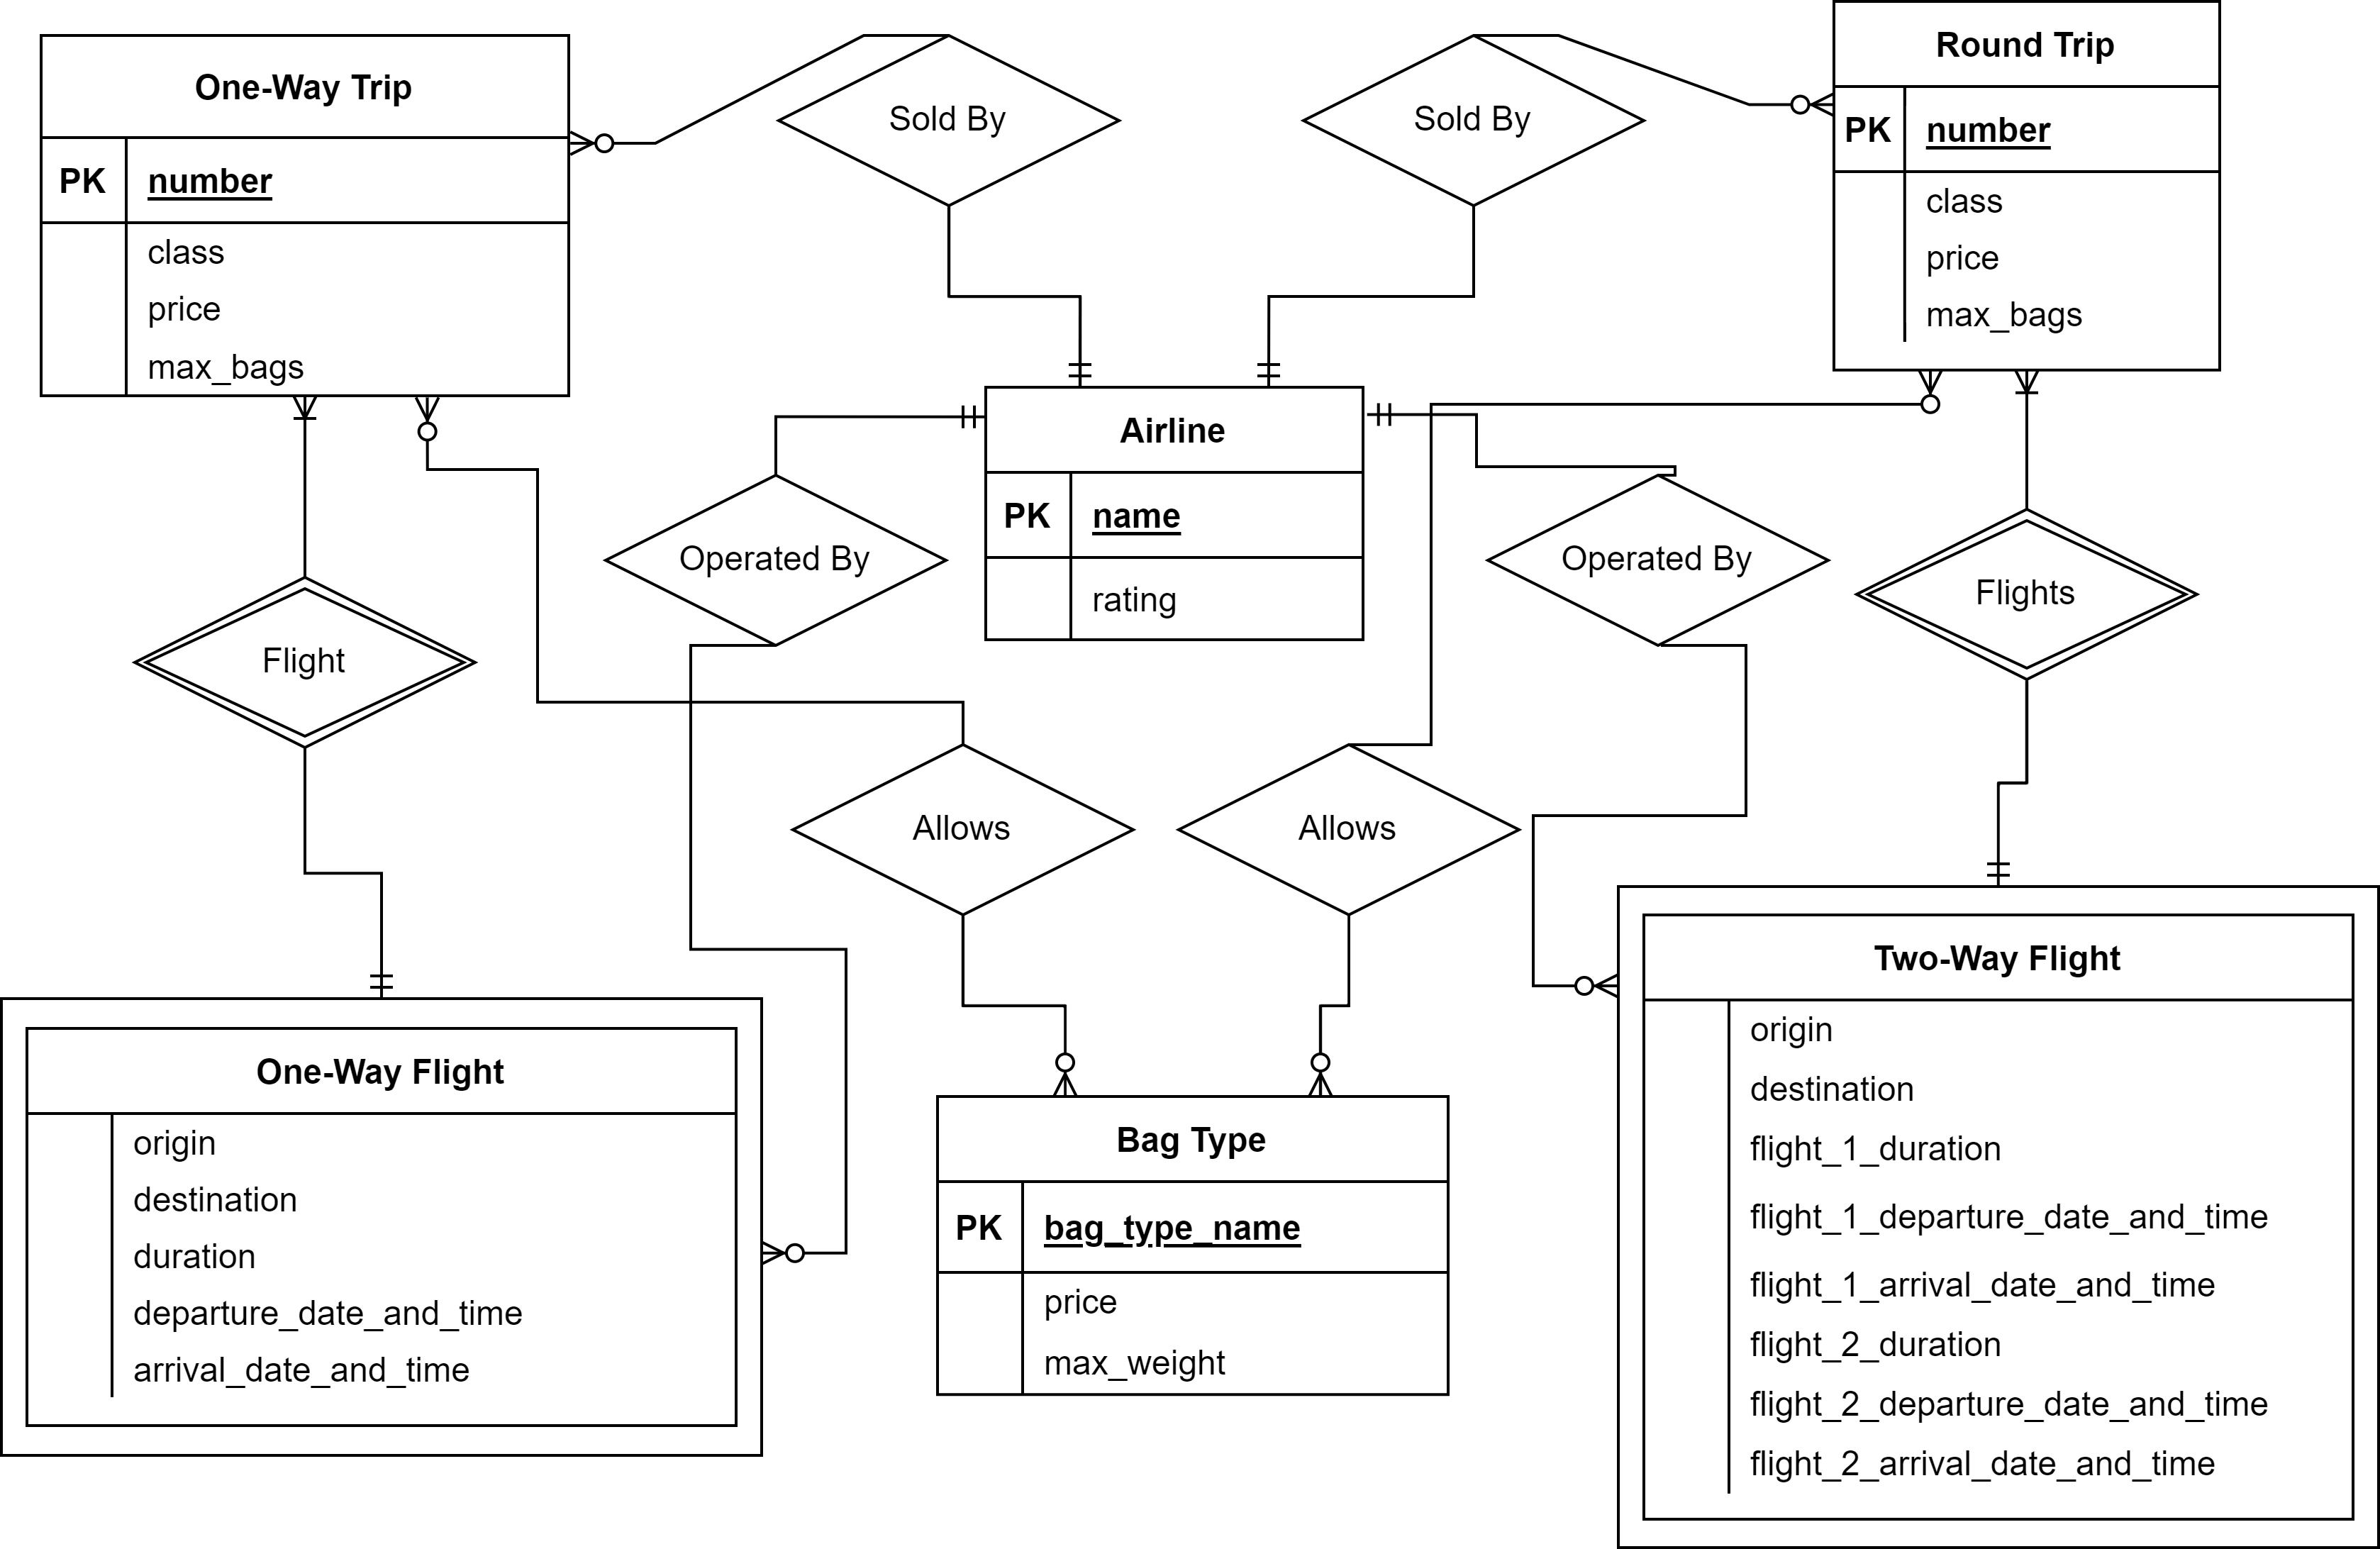entity: (31, 31, 574, 402), (930, 1091, 1452, 1396), (1834, 0, 2220, 371), (980, 385, 1362, 642)
relationship: (789, 748, 1133, 921), (781, 35, 1121, 206), (607, 479, 958, 642), (1490, 477, 1830, 644), (1180, 746, 1518, 911), (1303, 42, 1639, 205)
weakentity: (1610, 881, 2380, 1549), (0, 992, 763, 1464)
weakrelationship: (130, 576, 482, 749), (1861, 513, 2194, 683)
